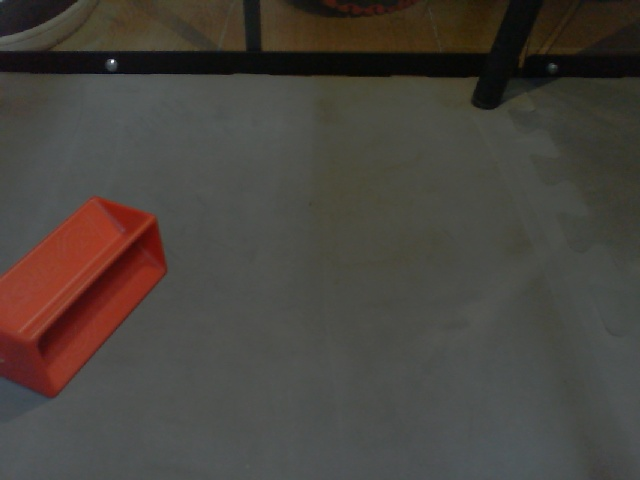RedSample: (1, 194, 169, 399)
